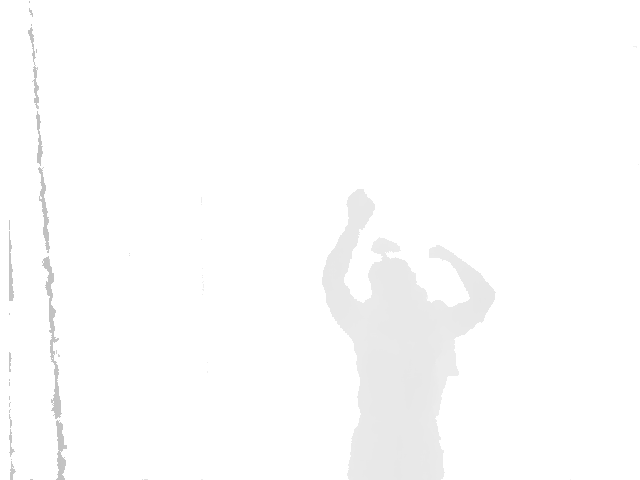hand: (345, 188, 374, 228), (427, 243, 452, 261)
head: (366, 239, 418, 305)
person: (322, 187, 495, 480)
